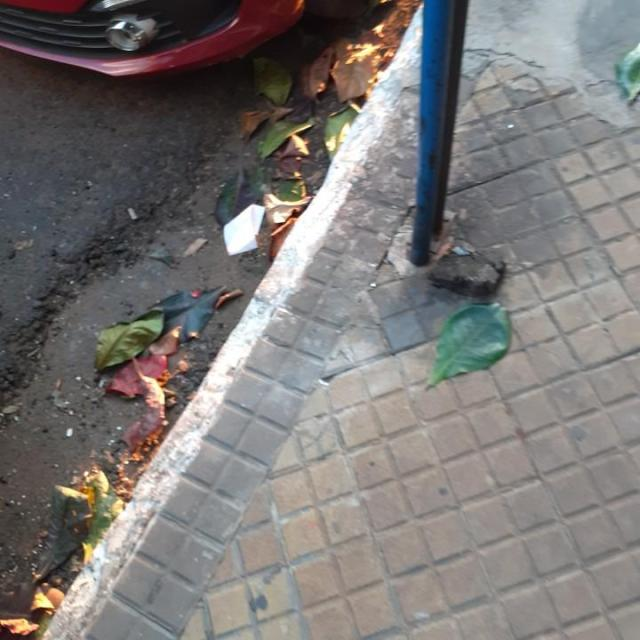litter: (222, 204, 266, 258)
